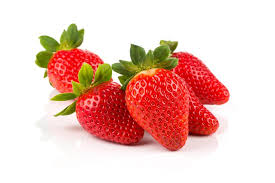strawberry: (125, 65, 191, 153), (74, 79, 146, 147), (38, 30, 110, 97), (147, 50, 231, 107)
